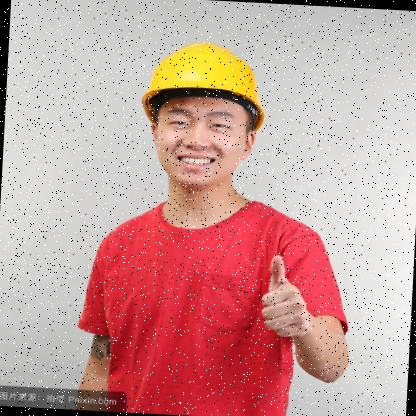capacete: (130, 36, 271, 194)
sem_colete_refletivo: (69, 187, 363, 415)
